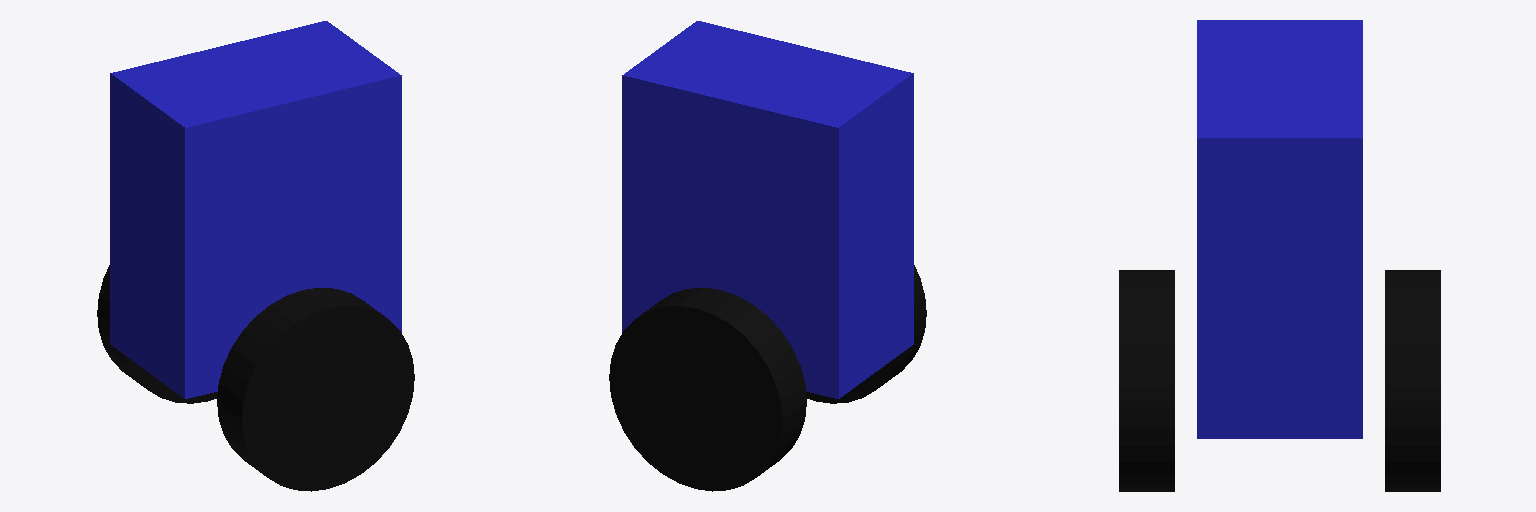
robot.urdf — self_balancing_robot:
<?xml version="1.0"?>
<robot name="self_balancing_robot">


  <material name="black">
    <color rgba="0.1 0.1 0.1 1"/>
  </material>

  <material name="blue">
    <color rgba="0.2 0.2 0.8 1"/>
  </material>


  <link name="base_link">

    <inertial>
      <origin xyz="0 0 0"/>
      <mass value="5.0"/>
      <inertia
        ixx="0.10"
        ixy="0.0"
        ixz="0.0"
        iyy="0.10"
        iyz="0.0"
        izz="0.10"/>
    </inertial>

    <visual>
      <origin xyz="0 0 0.25"/>
      <geometry>
        <box size="0.25 0.15 0.30"/>
      </geometry>
      <material name="blue"/>
    </visual>

    <collision>
      <origin xyz="0 0 0.25"/>
      <geometry>
        <box size="0.25 0.15 0.50"/>
      </geometry>
    </collision>

  </link>

  <link name="left_wheel">

    <inertial>
      <mass value="0.5"/>
      <origin xyz="0 0 0"/>
      <inertia
        ixx="0.002"
        ixy="0"
        ixz="0"
        iyy="0.001"
        iyz="0"
        izz="0.002"/>
    </inertial>

    <visual>
      <origin rpy="1.5708 0 0"/>
      <geometry>
        <cylinder radius="0.10" length="0.05"/>
      </geometry>
      <material name="black"/>
    </visual>

    <collision>
      <origin rpy="1.5708 0 0"/>
      <geometry>
        <cylinder radius="0.10" length="0.05"/>
      </geometry>
    </collision>

  </link>


  <link name="right_wheel">

    <inertial>
      <mass value="0.5"/>
      <origin xyz="0 0 0"/>
      <inertia
        ixx="0.002"
        ixy="0"
        ixz="0"
        iyy="0.001"
        iyz="0"
        izz="0.002"/>
    </inertial>

    <visual>
      <origin rpy="1.5708 0 0"/>
      <geometry>
        <cylinder radius="0.10" length="0.05"/>
      </geometry>
      <material name="black"/>
    </visual>

    <collision>
      <origin rpy="1.5708 0 0"/>
      <geometry>
        <cylinder radius="0.10" length="0.05"/>
      </geometry>
    </collision>

  </link>


  <joint name="left_wheel_joint" type="continuous">

    <parent link="base_link"/>
    <child link="left_wheel"/>

    <origin xyz="0 0.12 0.10"/>
    <axis xyz="0 1 0"/>

  </joint>


  <joint name="right_wheel_joint" type="continuous">

    <parent link="base_link"/>
    <child link="right_wheel"/>

    <origin xyz="0 -0.12 0.10"/>
    <axis xyz="0 1 0"/>

  </joint>


  <link name="imu_link">
    <inertial>
      <mass value="0.01"/>
      <origin xyz="0 0 0"/>
      <inertia
        ixx="0.0001"
        ixy="0"
        ixz="0"
        iyy="0.0001"
        iyz="0"
        izz="0.0001"/>
    </inertial>
  </link>

  <joint name="imu_joint" type="fixed">
    <parent link="base_link"/>
    <child link="imu_link"/>
    <origin xyz="0 0 0.25"/>
  </joint>

<gazebo>
  <plugin filename="libgz_ros2_control-system.so"
          name="gz_ros2_control::GazeboSimROS2ControlPlugin">
    
  </plugin>
</gazebo>

</robot>

--- Render facts (derived) ---
3 views of the same robot in one strip: view 1: azimuth 30°, elevation 25°; view 2: azimuth 150°, elevation 25°; view 3: azimuth 270°, elevation 25° (orthographic).
Robot: self_balancing_robot — 4 links, 3 joints (2 continuous, 1 fixed); root link base_link; default pose: all joints at 0.
Links seen in each view (by area): view 1: base_link, right_wheel, left_wheel; view 2: base_link, left_wheel, right_wheel; view 3: base_link, left_wheel, right_wheel.
Boxes of the visible links, bbox=[...] form: base_link: bbox=[110, 21, 401, 398]; right_wheel: bbox=[217, 288, 414, 491]; left_wheel: bbox=[97, 265, 217, 403]; base_link: bbox=[622, 21, 913, 398]; left_wheel: bbox=[609, 288, 806, 491]; right_wheel: bbox=[806, 265, 926, 403]; base_link: bbox=[1197, 20, 1362, 438]; left_wheel: bbox=[1385, 270, 1440, 491]; right_wheel: bbox=[1119, 270, 1174, 491].
Bounding box of the posed robot: 0.25 × 0.29 × 0.4 m (x, y, z).
Geometry: primitives only (box / cylinder / sphere), no mesh files.
